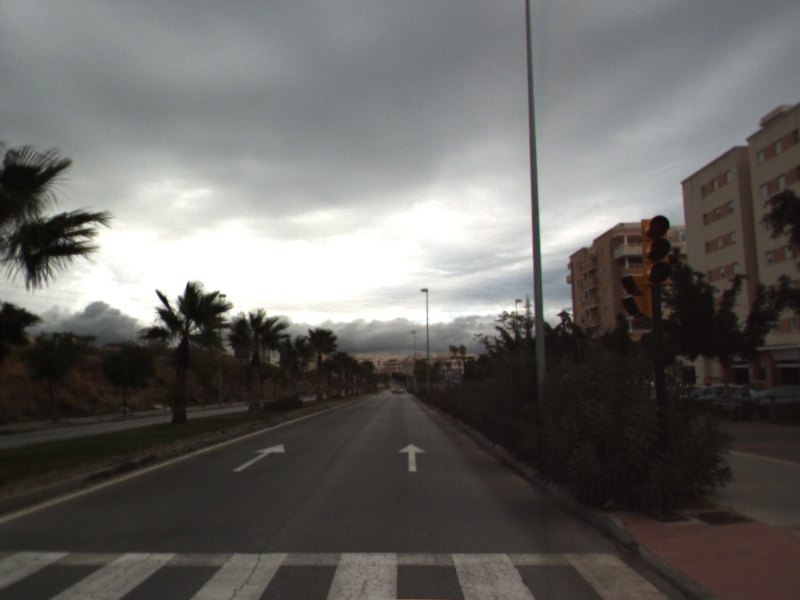STRAIGHT: (231, 442, 287, 473), (396, 441, 428, 473)
